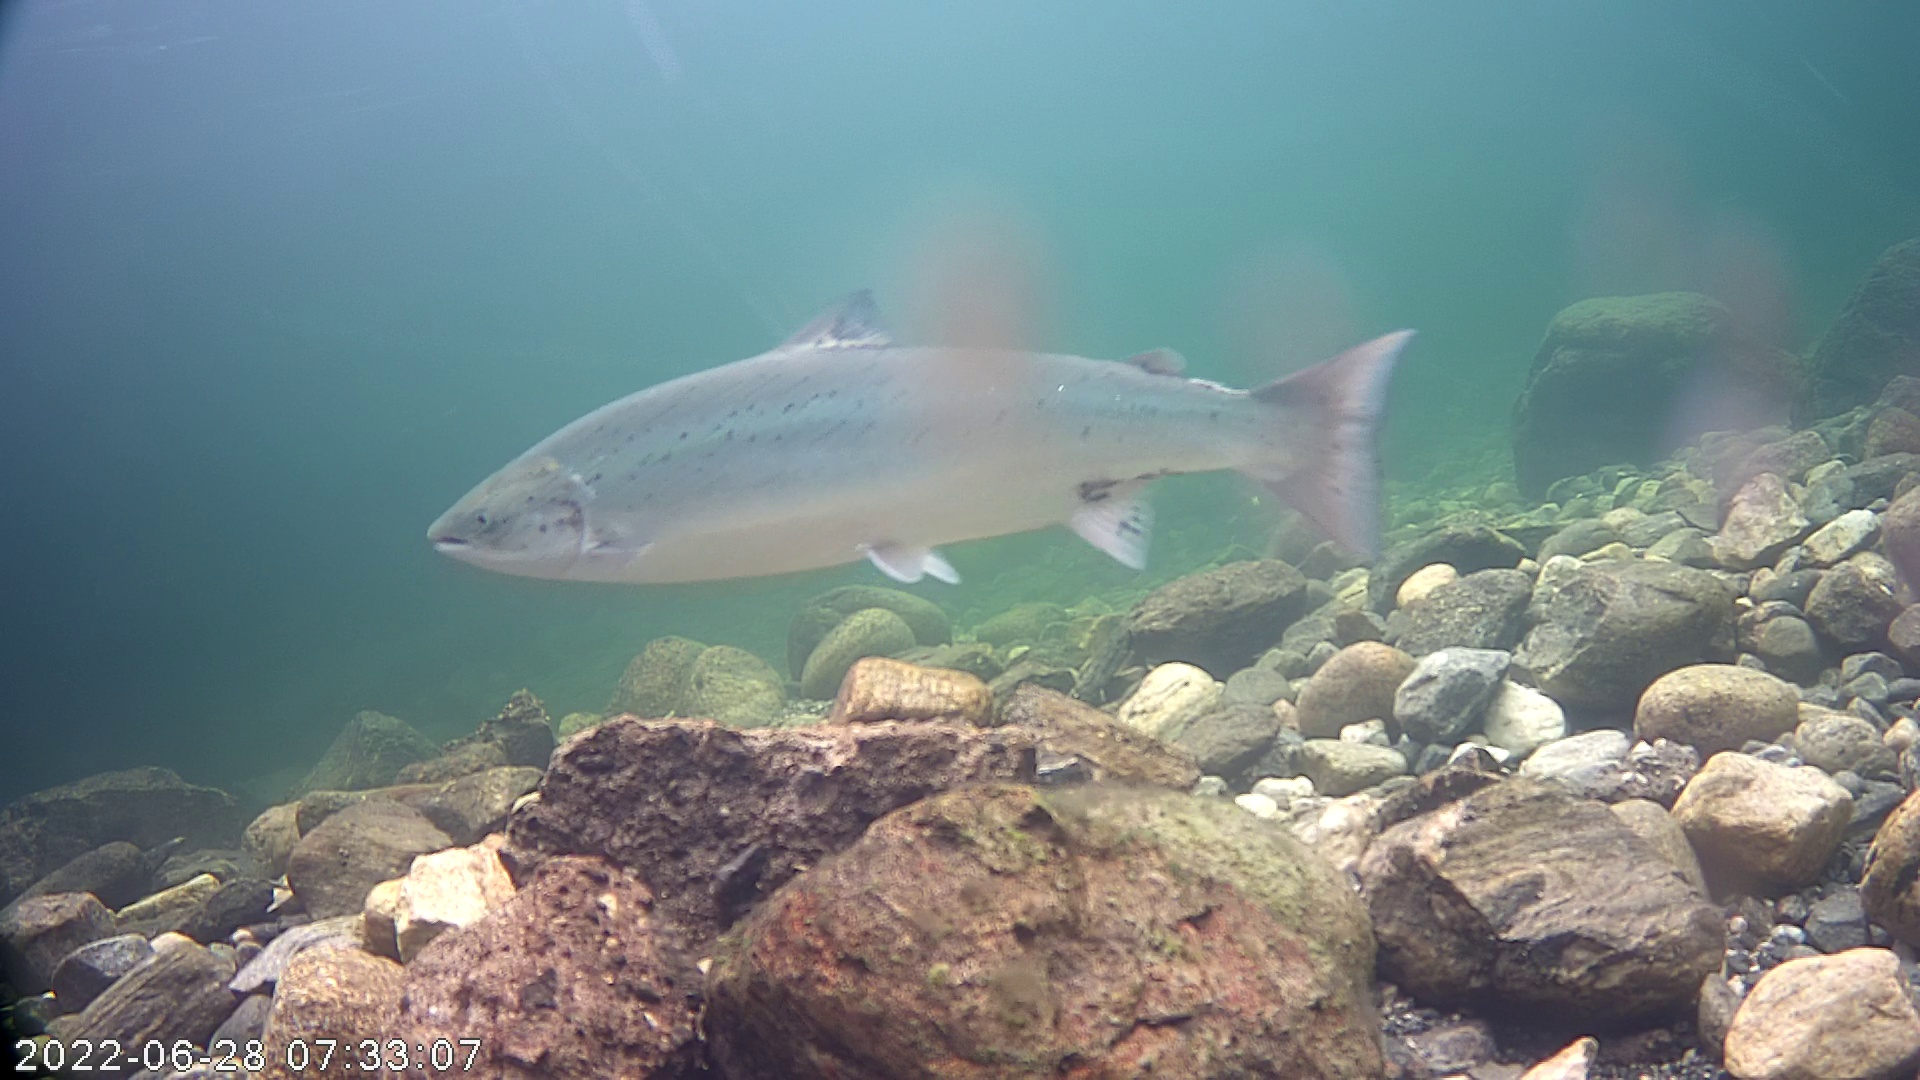salmon: (417, 203, 1424, 629)
